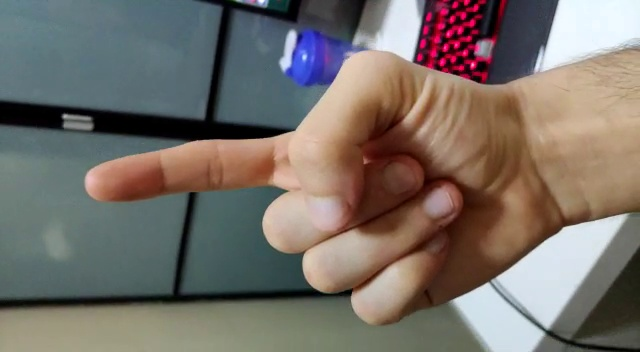One: (73, 124, 309, 216)
